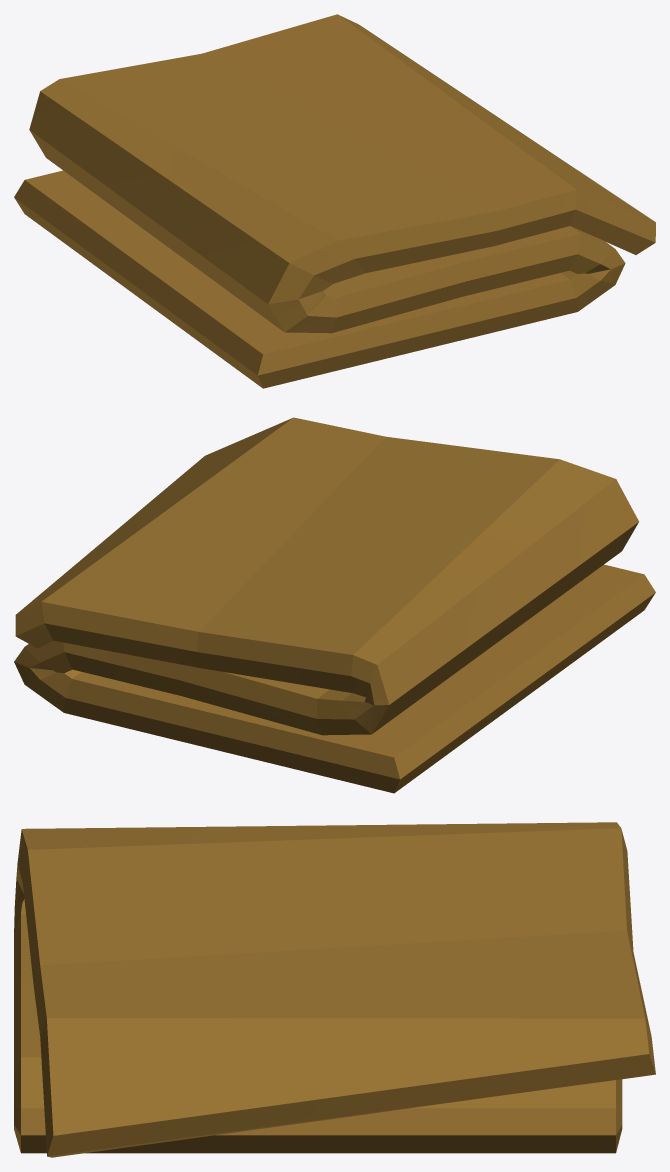
The model's file is fabric 1.fbx.
3 views of the same model, one above another, from view 1: azimuth 30°, elevation 25°; view 2: azimuth 150°, elevation 25°; view 3: azimuth 270°, elevation 25° (orthographic). The views are drawn at different scales.
Parts seen in each view (by area): view 1: SM_Prop_Fabric_01; view 2: SM_Prop_Fabric_01; view 3: SM_Prop_Fabric_01.
Boxes of the visible parts, left/top/right/bottom form: SM_Prop_Fabric_01: left=14, top=14, right=655, bottom=388; SM_Prop_Fabric_01: left=14, top=417, right=655, bottom=793; SM_Prop_Fabric_01: left=14, top=822, right=655, bottom=1157.
Size of the model in its own units: 2630 by 771 by 2831.
